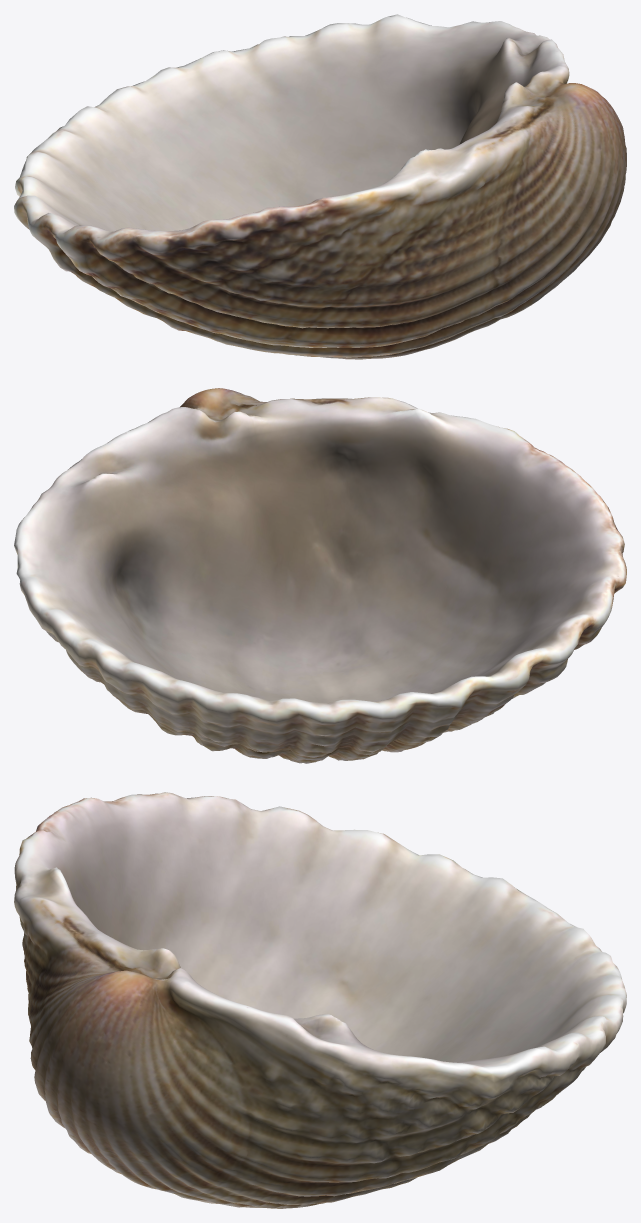
Rendered from common-cockle.obj.
The picture shows the model from 3 angles, top to bottom: view 1: azimuth 30°, elevation 25°; view 2: azimuth 150°, elevation 25°; view 3: azimuth 270°, elevation 25°; orthographic projection. The views are drawn at different scales.
Visible parts, largest first — view 1: default; view 2: default; view 3: default.
Boxes of the visible parts, x1,y1,x2,y2 form: default: (14,14,626,359); default: (14,388,626,763); default: (14,792,626,1208).
Bounding box in the file's own units: 27.07 × 12.84 × 24.25.
Materials: 1 (1 with a texture image).
